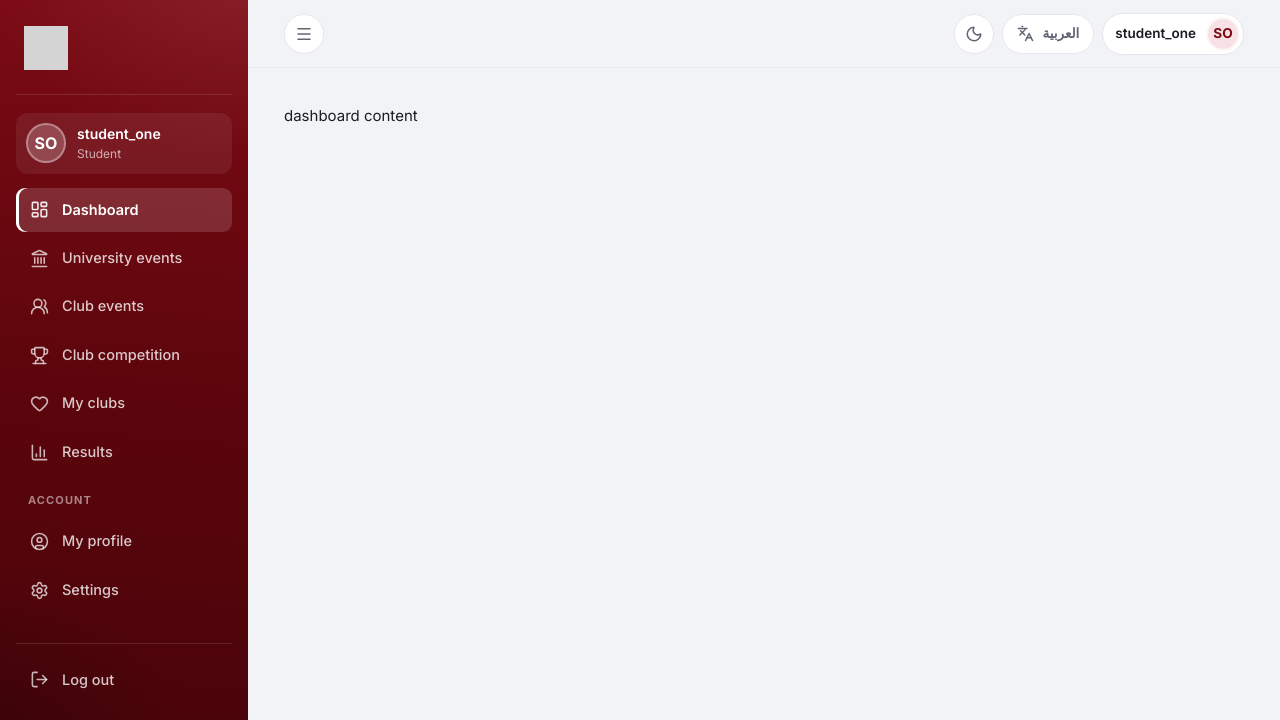
AppShell responsive drawer (narrow screens) › closes when the overlay is clicked
The width and height of the screenshot is (1280, 720).
Expected: the text "dashboard content" is shown, [284, 106, 418, 125]
Click the button named "Open menu".
click(304, 34)  # box [284, 14, 324, 54]
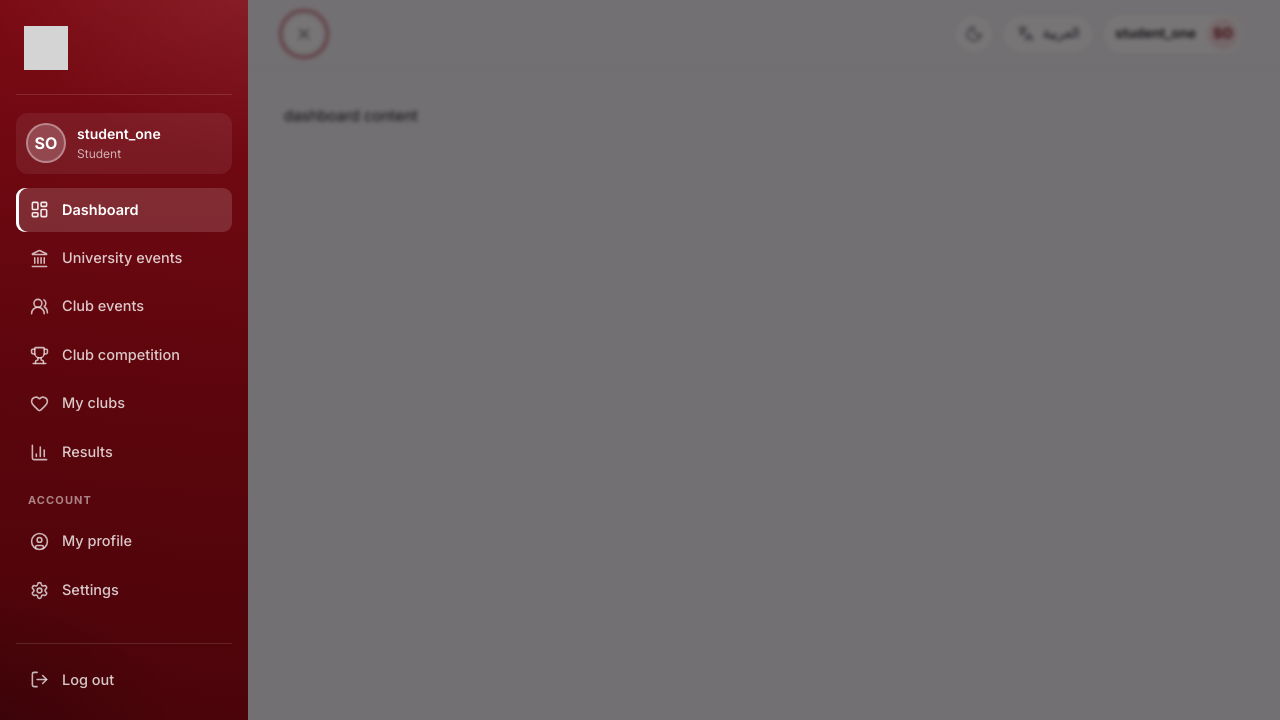
Click the element with class "sidebar-overlay".
click(640, 360)  # box [0, 0, 1279, 719]
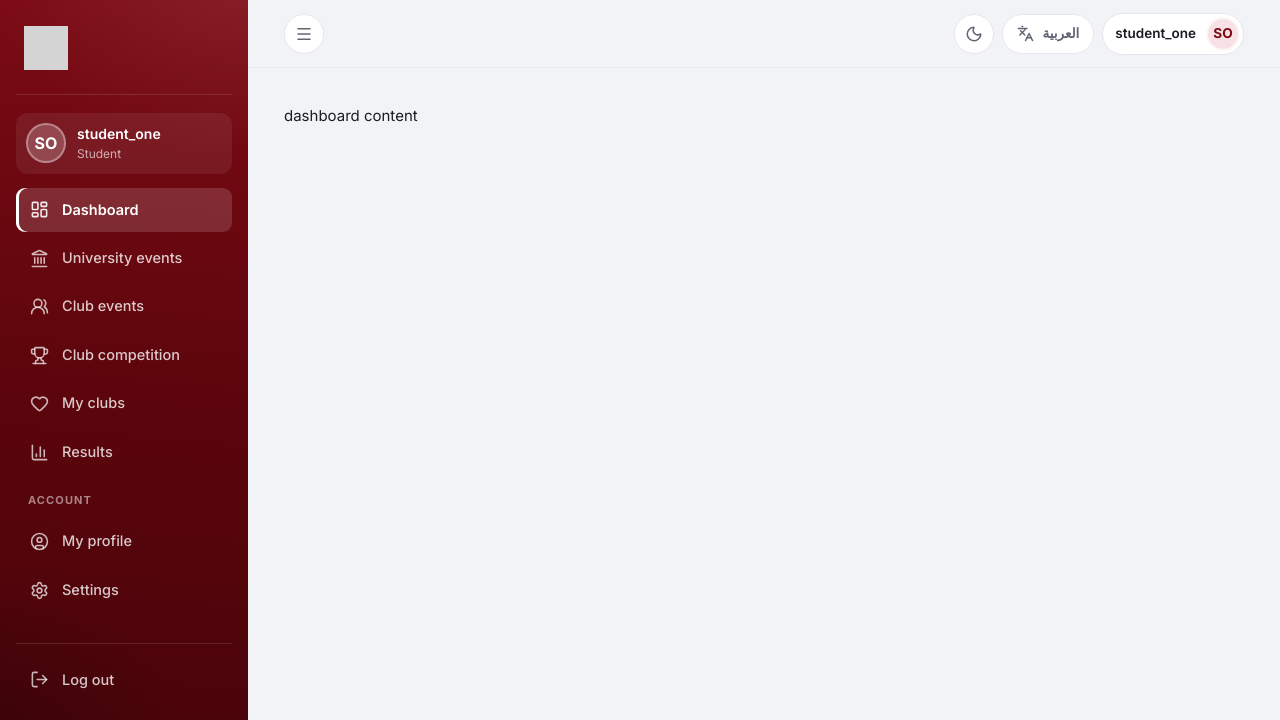
Expected: the element with class "sidebar-overlay" is gone
